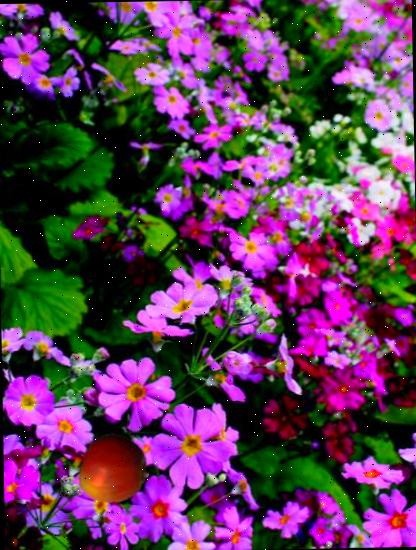Apple: (77, 432, 150, 505)
